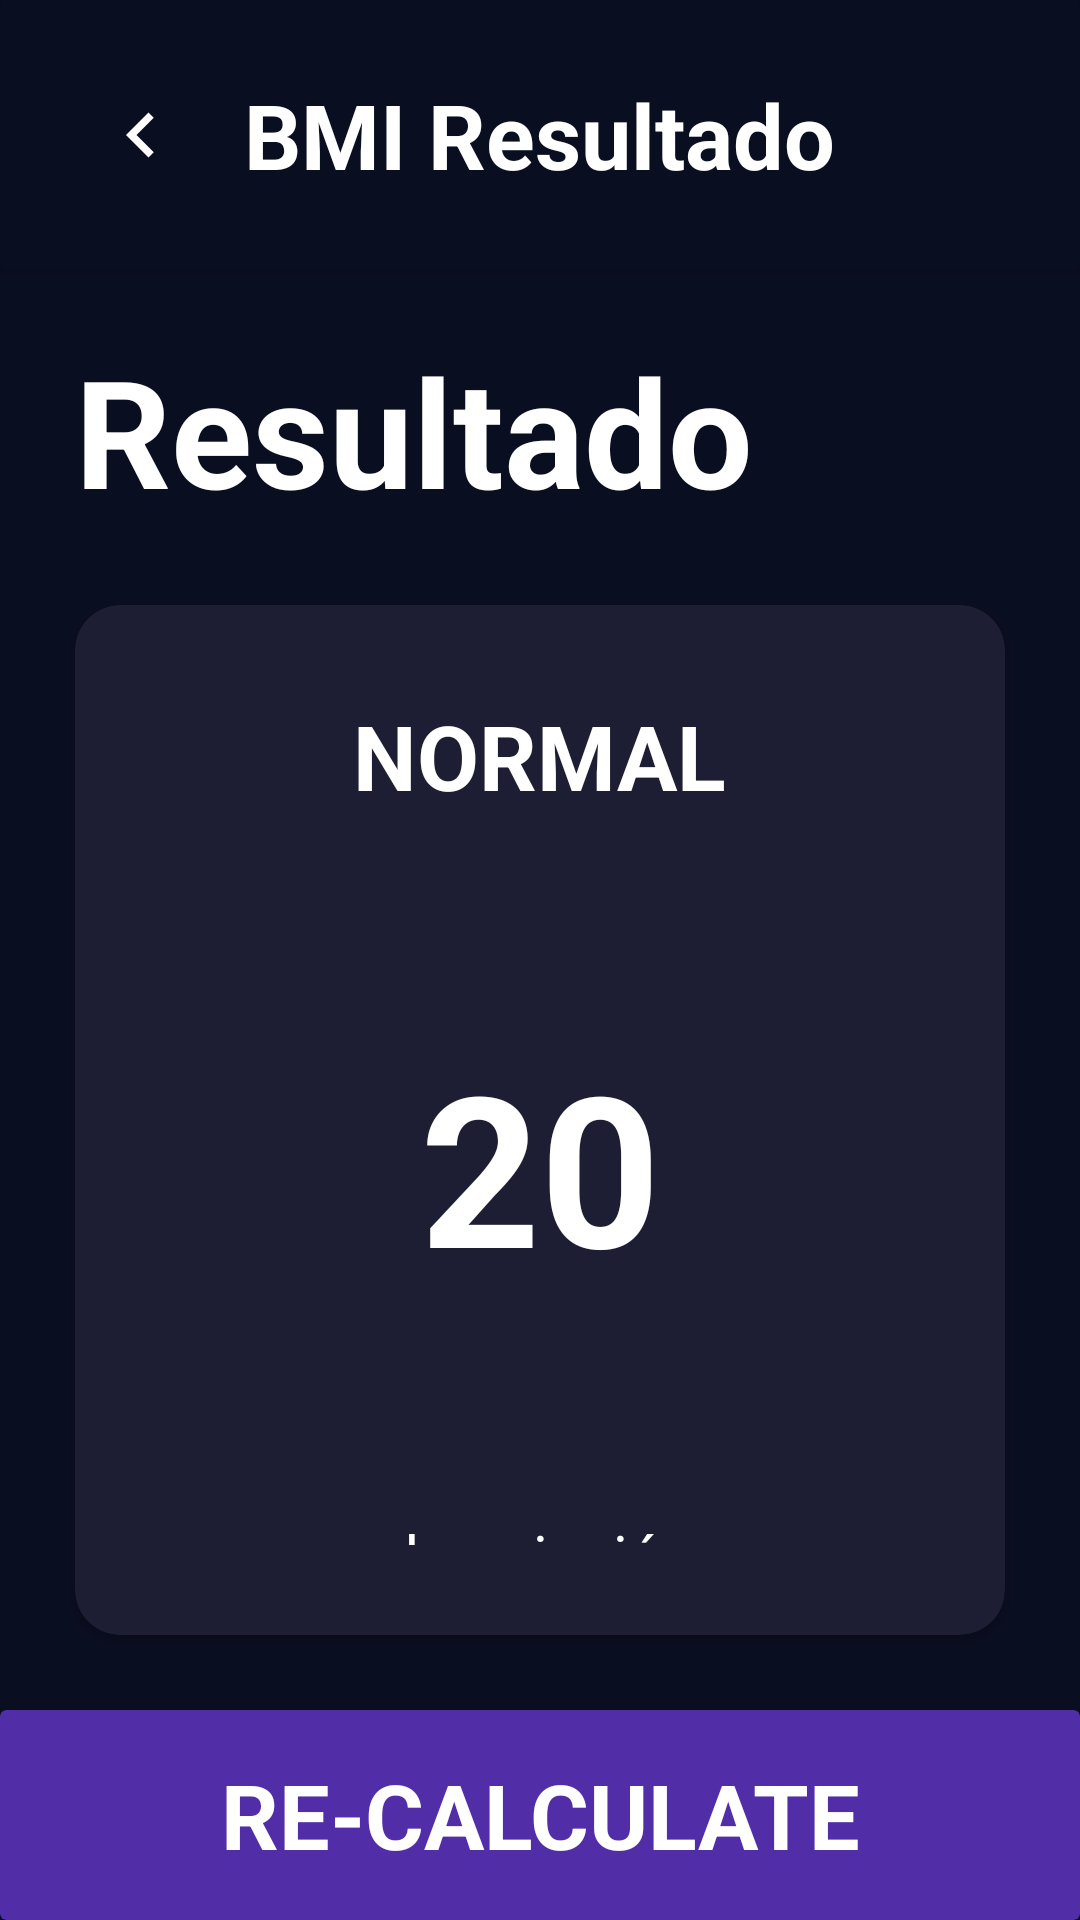

Screen size 1080×1920. Icon name, then its center in pixels as [x,y]:
volver: [140,135]
